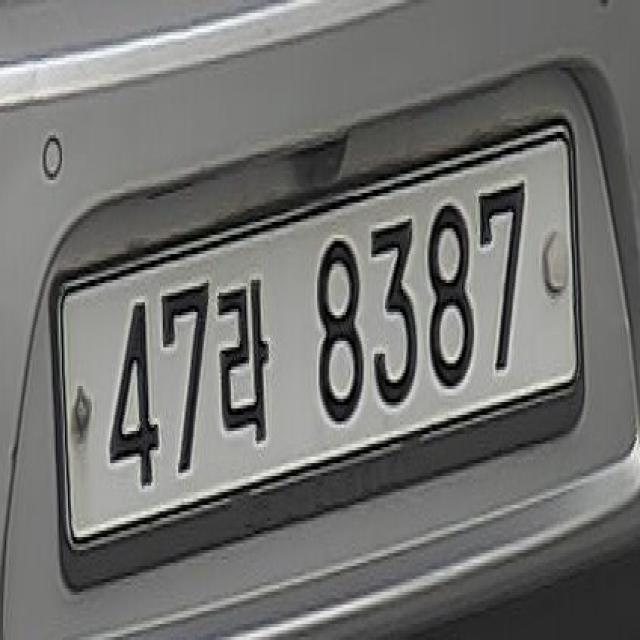plat: (51, 115, 582, 572)
